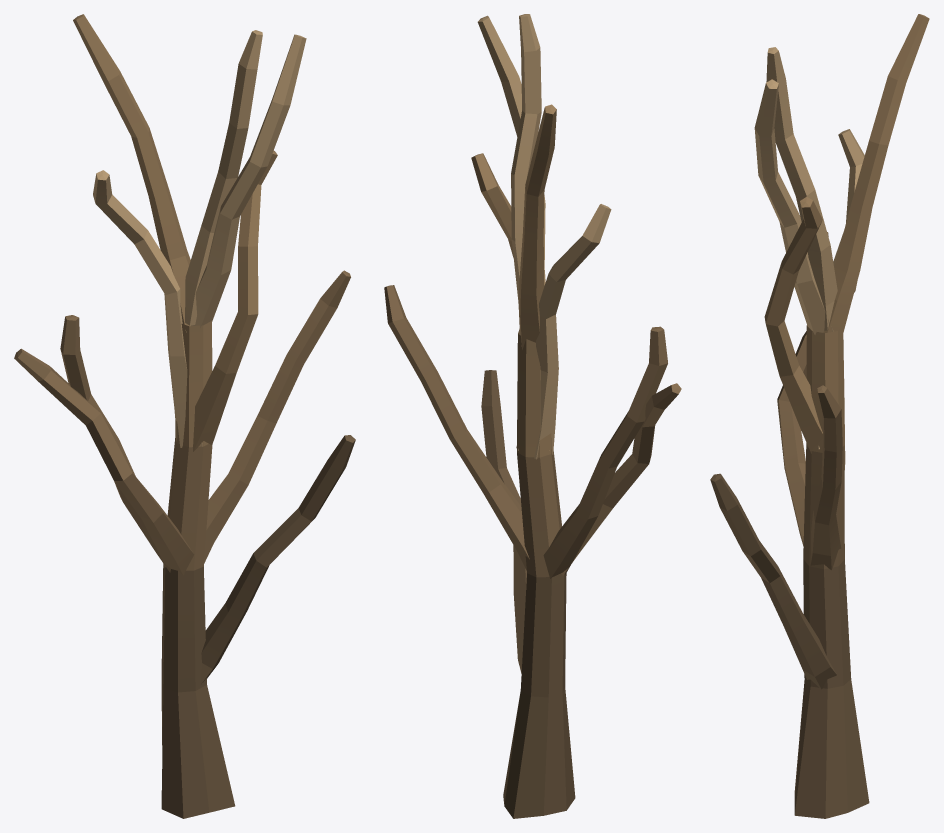
The model's file is naked_tree_4.fbx.
3 views of the same model, side by side, from view 1: azimuth 30°, elevation 25°; view 2: azimuth 150°, elevation 25°; view 3: azimuth 270°, elevation 25° (orthographic). The views are drawn at different scales.
Parts seen in each view (by area): view 1: naked_tree_4; view 2: naked_tree_4; view 3: naked_tree_4.
Boxes of the visible parts, bbox=[...] form: naked_tree_4: bbox=[14, 14, 355, 818]; naked_tree_4: bbox=[384, 14, 681, 818]; naked_tree_4: bbox=[710, 14, 929, 818].
Size of the model in its own units: 290 by 677 by 174.
